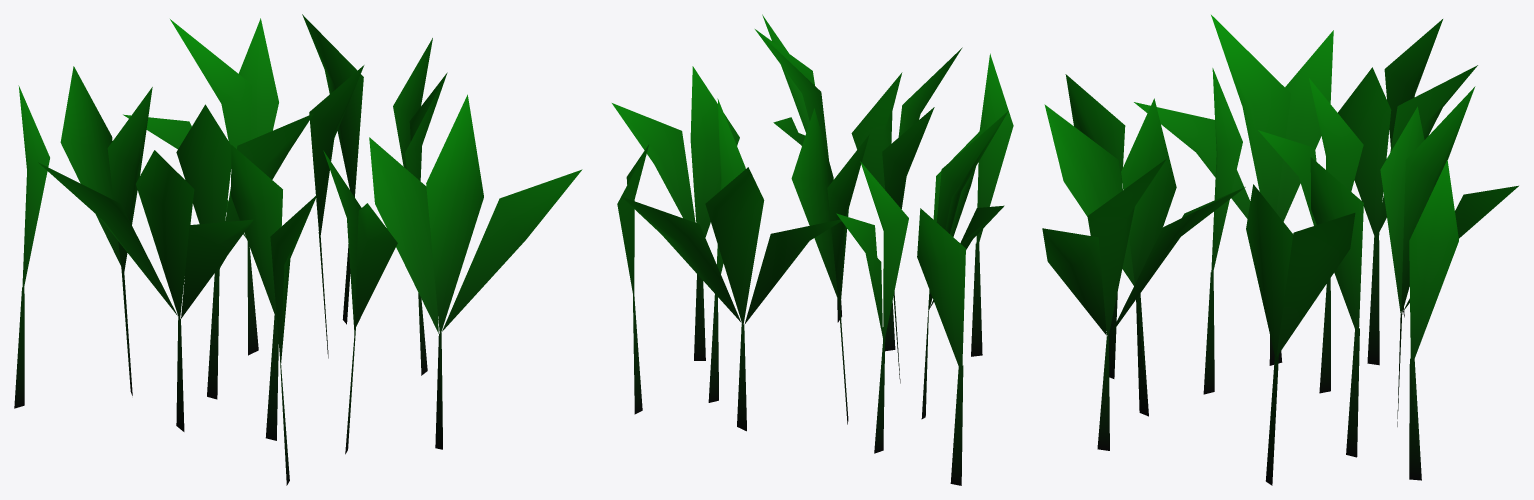
The model's file is TGV_Plant_07A.fbx.
3 views of the same model, side by side, from view 1: azimuth 30°, elevation 25°; view 2: azimuth 150°, elevation 25°; view 3: azimuth 270°, elevation 25° (orthographic). The views are drawn at different scales.
Parts seen in each view (by area): view 1: TGV_Plant_07A_LOD0; view 2: TGV_Plant_07A_LOD0; view 3: TGV_Plant_07A_LOD0.
Part boxes in pixels (left/top/right/bottom): TGV_Plant_07A_LOD0: left=14, top=14, right=582, bottom=485; TGV_Plant_07A_LOD0: left=612, top=14, right=1013, bottom=485; TGV_Plant_07A_LOD0: left=1042, top=15, right=1518, bottom=485.
Size of the model in its own units: 102 by 76.23 by 102.
